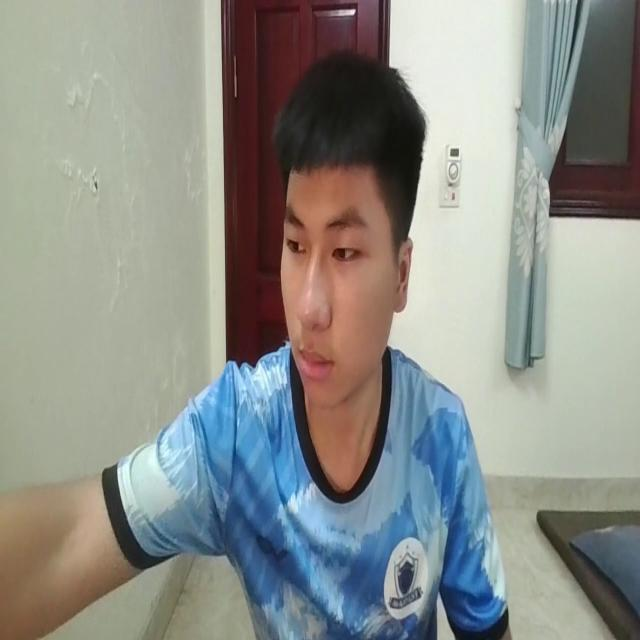student: (1, 37, 511, 640)
